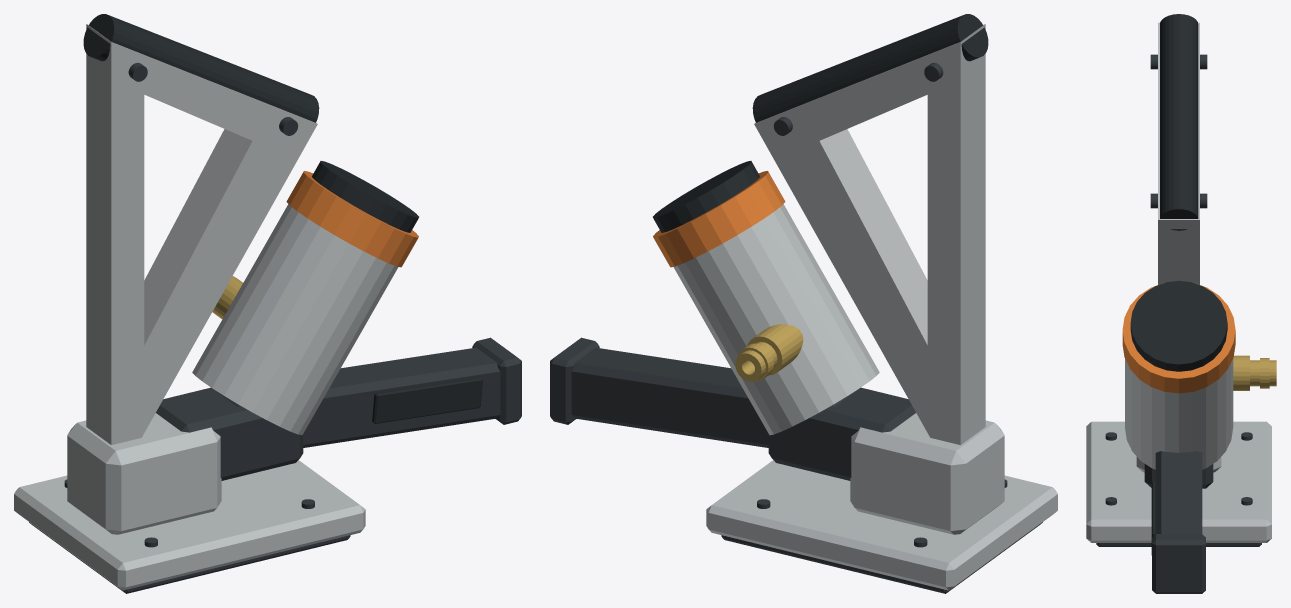
Rendered from full.glb.
The picture shows the model from 3 angles, left to right: view 1: azimuth 30°, elevation 25°; view 2: azimuth 150°, elevation 25°; view 3: azimuth 270°, elevation 25°; orthographic projection. The views are drawn at different scales.
Visible parts, largest first — view 1: Tall cast column with triangular opening, Inclined drive housing, Wide flat flooring shoe, Nose pedestal, Long black fastener magazine, Magazine nose bridge, Upper black handle, Orange mallet strike collar, Magazine side inset, Black mallet strike pad, Magazine end latch, Shoe underside wear plate; view 2: Tall cast column with triangular opening, Inclined drive housing, Wide flat flooring shoe, Nose pedestal, Long black fastener magazine, Magazine nose bridge, Upper black handle, Orange mallet strike collar, Black mallet strike pad, Magazine end latch, Air connector shoulder, Shoe underside wear plate (+1 smaller); view 3: Wide flat flooring shoe, Upper black handle, Inclined drive housing, Black mallet strike pad, Long black fastener magazine, Tall cast column with triangular opening, Orange mallet strike collar, Magazine end latch, Air connector shoulder, Air quick connector sleeve, Magazine nose bridge, Shoe underside wear plate (+2 smaller).
Boxes of the visible parts, x1,y1,x2,y2 form: Tall cast column with triangular opening: (86,24,317,444); Inclined drive housing: (192,204,398,435); Wide flat flooring shoe: (14,460,365,590); Nose pedestal: (67,413,221,534); Long black fastener magazine: (216,347,500,447); Magazine nose bridge: (156,387,303,480); Upper black handle: (83,14,319,122); Orange mallet strike collar: (286,171,418,267); Magazine side inset: (372,377,482,423); Black mallet strike pad: (312,161,418,232); Magazine end latch: (472,337,521,424); Shoe underside wear plate: (29,522,350,593); Tall cast column with triangular opening: (754,24,985,444); Inclined drive housing: (673,204,879,435); Wide flat flooring shoe: (706,460,1057,590); Nose pedestal: (850,413,1004,534); Long black fastener magazine: (571,347,855,447); Magazine nose bridge: (768,387,915,480); Upper black handle: (752,14,988,122); Orange mallet strike collar: (653,171,785,267); Black mallet strike pad: (653,161,759,232); Magazine end latch: (550,337,599,424); Air connector shoulder: (747,324,803,375); Shoe underside wear plate: (721,522,1042,593); Wide flat flooring shoe: (1086,421,1271,542); Upper black handle: (1160,14,1198,230); Inclined drive housing: (1125,358,1233,469); Black mallet strike pad: (1130,280,1227,371); Long black fastener magazine: (1155,451,1202,533); Tall cast column with triangular opening: (1158,22,1199,284); Orange mallet strike collar: (1122,282,1235,393); Magazine end latch: (1152,534,1205,593); Air connector shoulder: (1233,355,1249,390); Air quick connector sleeve: (1250,360,1276,386); Magazine nose bridge: (1144,464,1213,488); Shoe underside wear plate: (1096,543,1261,546).
Bounding box in the file's own units: 0.5355 × 0.6205 × 0.236.
